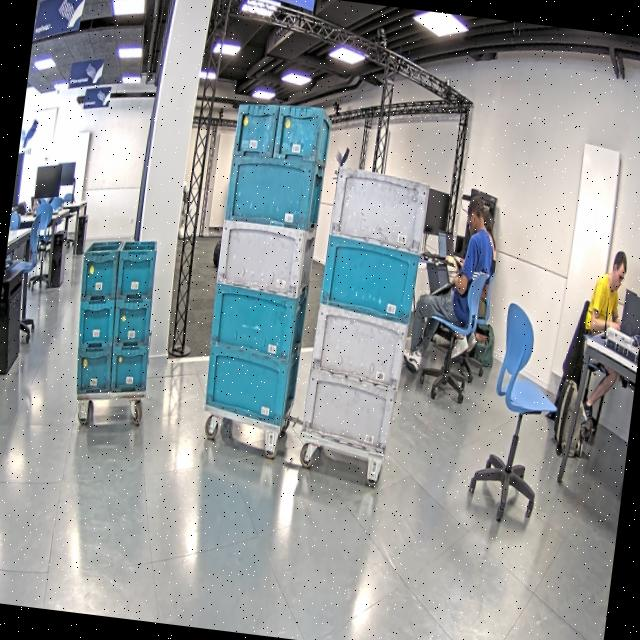Box4G: (328, 166, 434, 260), (306, 302, 412, 394), (294, 366, 400, 458), (208, 218, 318, 306)
BoxB4: (310, 234, 420, 332), (198, 338, 304, 431), (202, 280, 310, 370), (219, 152, 326, 235)
BoxB8: (272, 102, 333, 172), (232, 98, 282, 161), (78, 237, 124, 304), (110, 239, 158, 303), (108, 298, 154, 352), (108, 344, 152, 398), (74, 299, 118, 353), (69, 342, 112, 397)
